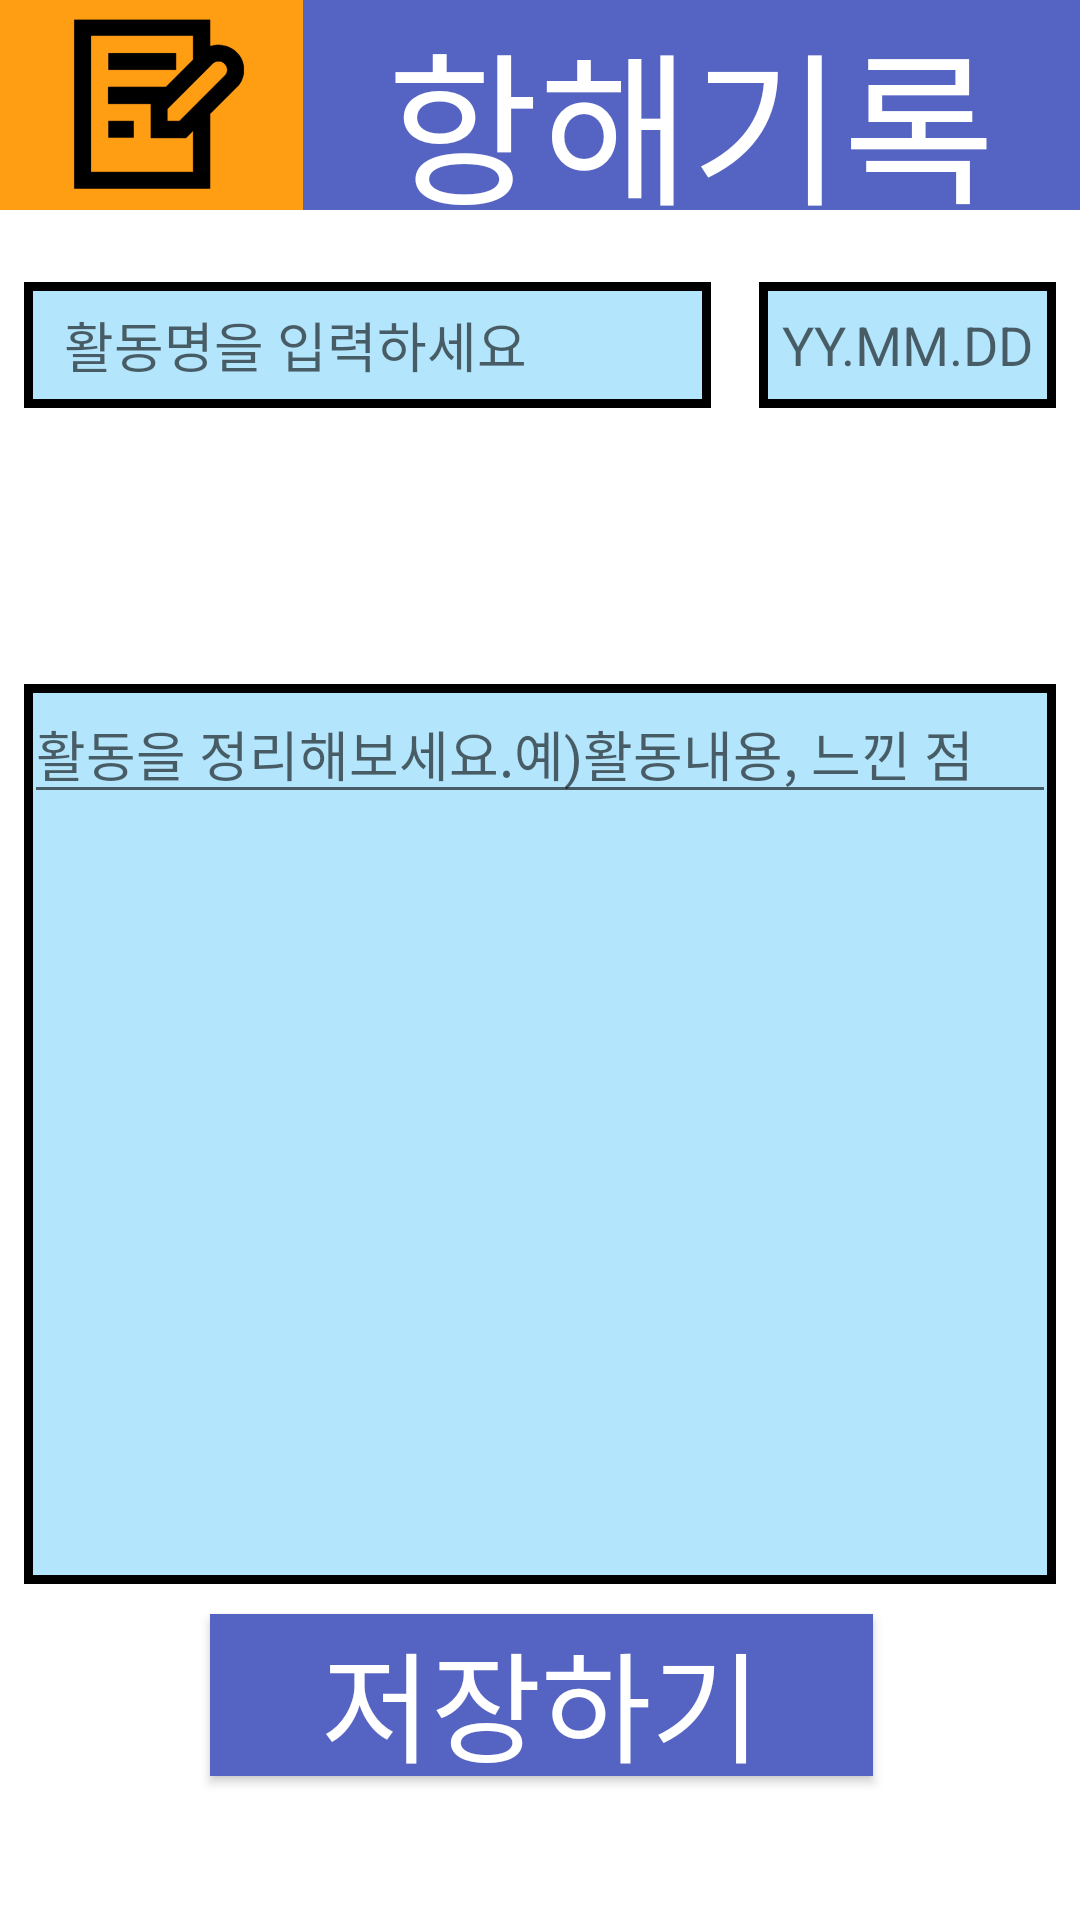

Named icons in this screenshot (1080*1920) and their centers, (x=x, y=y):
diaryimage: (x=151, y=105)
